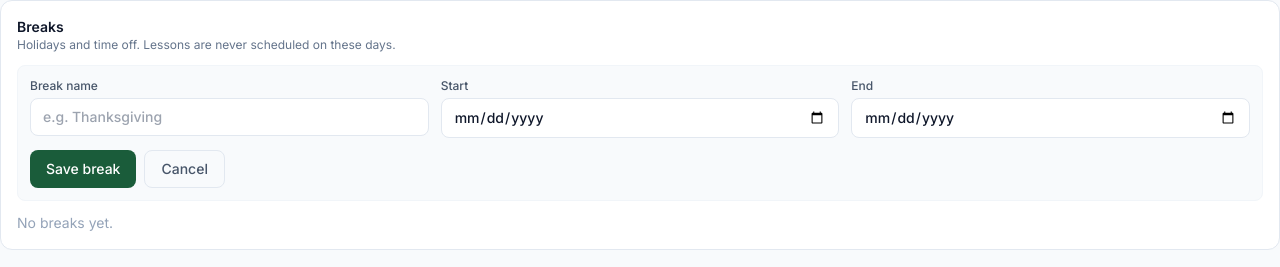
Test: SchoolBreaksPanel — move lessons out of a new break › offers to move lessons that fall inside the saved break
This screenshot has width=1280, height=267.
Type "Thanksgiving" into the field labelled "Break name".
click(229, 117); type("Thanksgiving")  # box top-left (30, 98), bottom-right (429, 136)
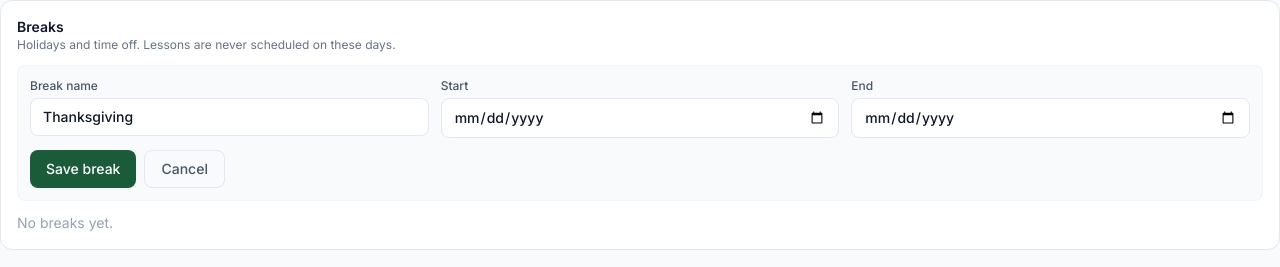
Type "2026-11-25" into the date field labelled "Start".
click(640, 118); type("2026-11-25")  # box top-left (441, 98), bottom-right (839, 138)
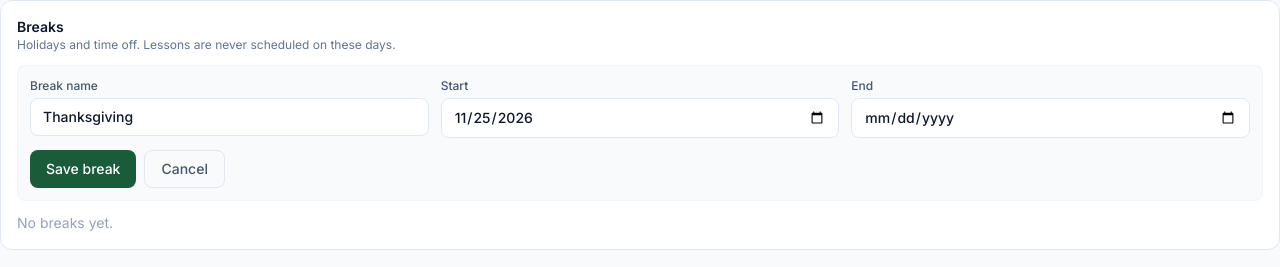
Type "2026-11-27" into the date field labelled "End".
click(1051, 118); type("2026-11-27")  # box top-left (851, 98), bottom-right (1250, 138)
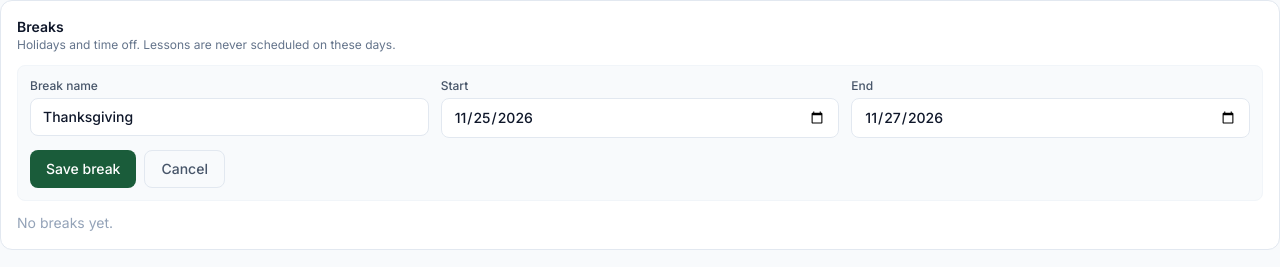
Click the button "Save break".
click(83, 169)  # box top-left (30, 150), bottom-right (136, 188)
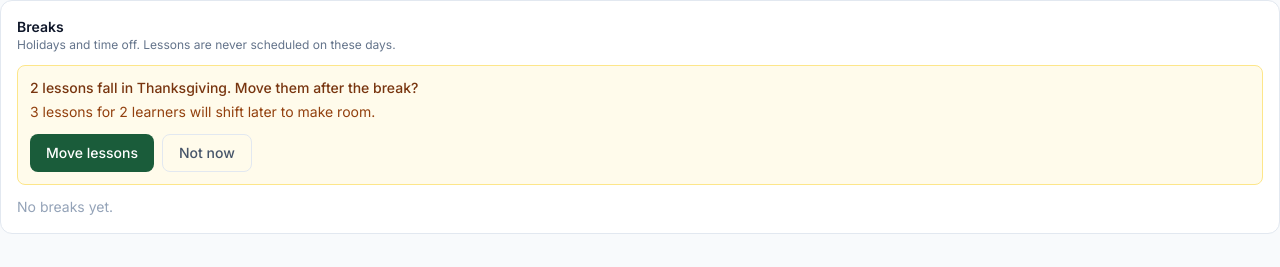
expect the element with test id "break-shift-prompt" shows "2 lessons fall in Thanksgiving. Move them after the break?": met, box top-left (17, 65), bottom-right (1263, 185)
expect the element with test id "break-shift-prompt" shows "3 lessons for 2 learners will shift later to make room.": met, box top-left (17, 65), bottom-right (1263, 185)
